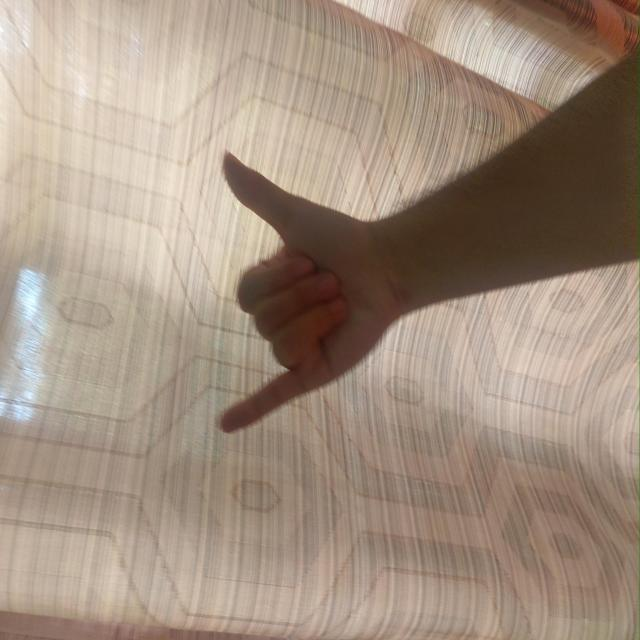Y: (204, 216, 494, 392)
